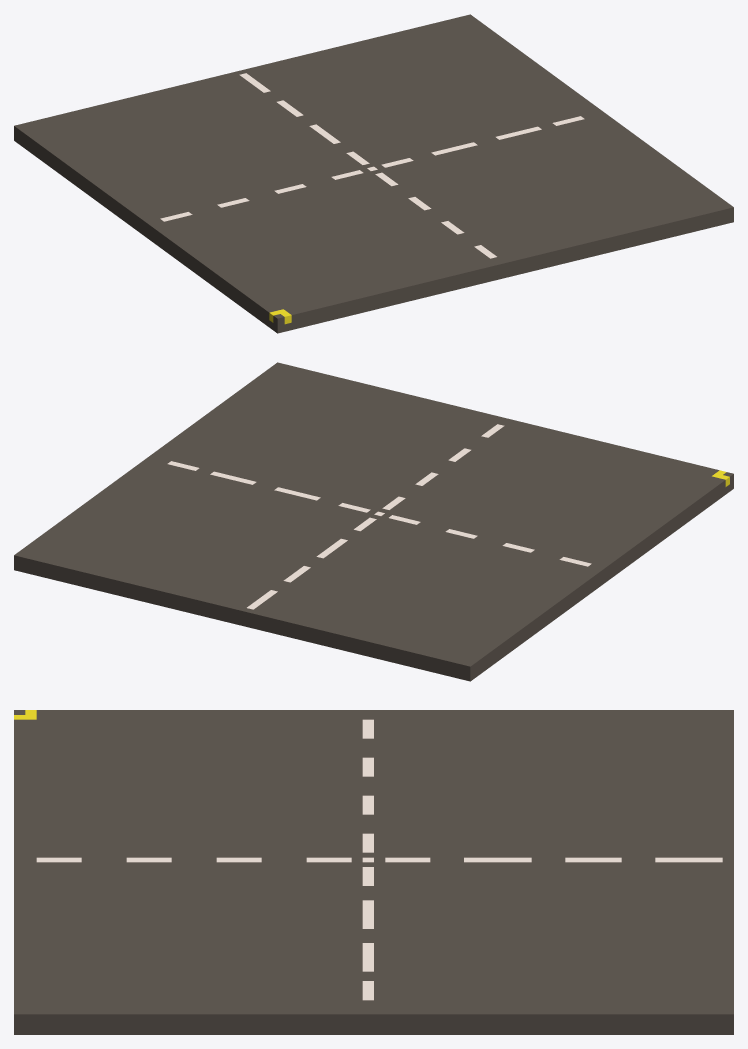
Rendered from road_a_corner.obj.
3 renders of one model, top to bottom at view 1: azimuth 30°, elevation 25°; view 2: azimuth 150°, elevation 25°; view 3: azimuth 270°, elevation 25°, orthographic. The views are drawn at different scales.
Size of the model in its own units: 6.4 by 0.2 by 6.4.
1 material, 1 textured.
